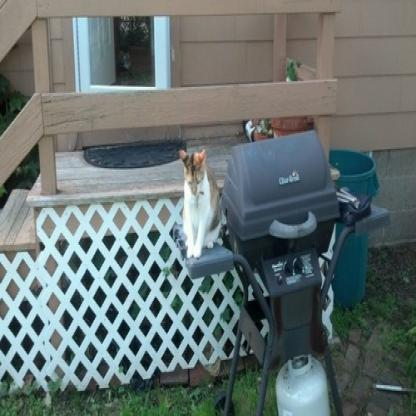Target: (174, 146, 227, 261)
